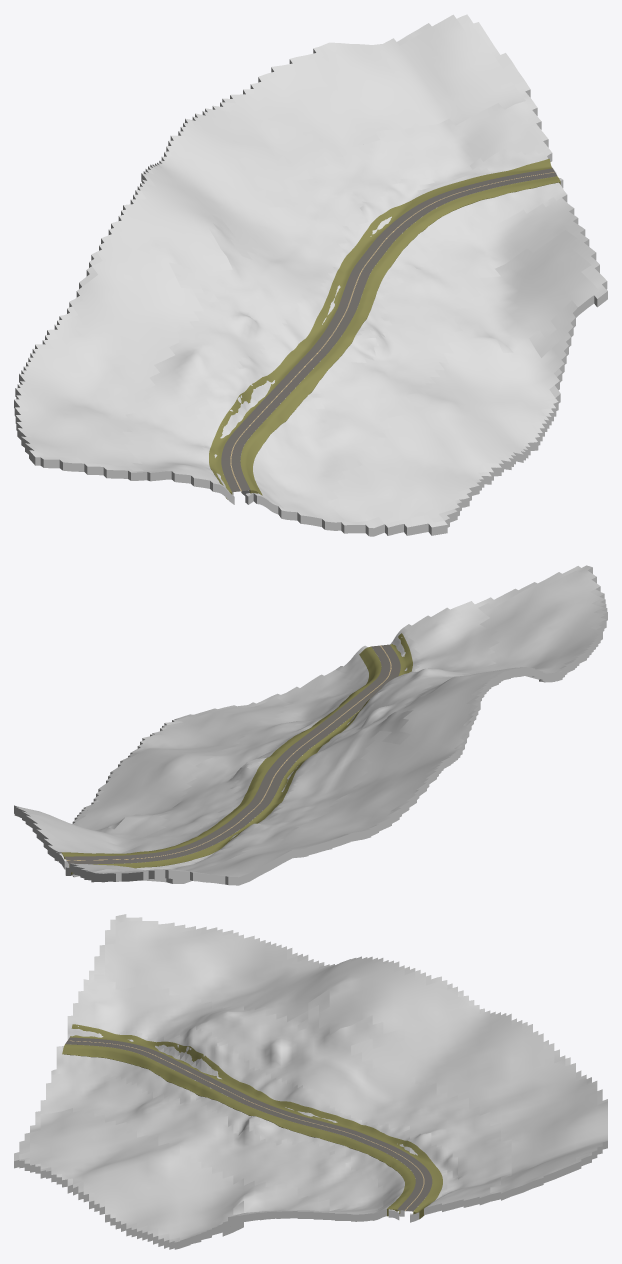
File: conz_197.glb
3 views of the same model, one above another, from view 1: azimuth 30°, elevation 25°; view 2: azimuth 210°, elevation 25°; view 3: azimuth 270°, elevation 25° (orthographic). The views are drawn at different scales.
Parts seen in each view (by area): view 1: terrain197, road197, verge197R, verge197L; view 2: terrain197, road197, verge197L, verge197R, paint_yellow197; view 3: terrain197, verge197R, road197, verge197L.
Boxes of the visible parts, box(x1,y1,x2,y2) form: terrain197: box(14, 14, 607, 536); road197: box(221, 168, 557, 492); verge197R: box(240, 176, 560, 495); verge197L: box(209, 158, 552, 499); terrain197: box(14, 565, 607, 885); road197: box(64, 644, 400, 864); verge197L: box(69, 633, 412, 875); verge197R: box(61, 646, 381, 864); paint_yellow197: box(67, 645, 391, 860); terrain197: box(14, 914, 607, 1249); verge197R: box(62, 1044, 415, 1216); road197: box(65, 1037, 432, 1211); verge197L: box(70, 1024, 442, 1218).
Size of the model in its own units: 268 by 69.95 by 222.
